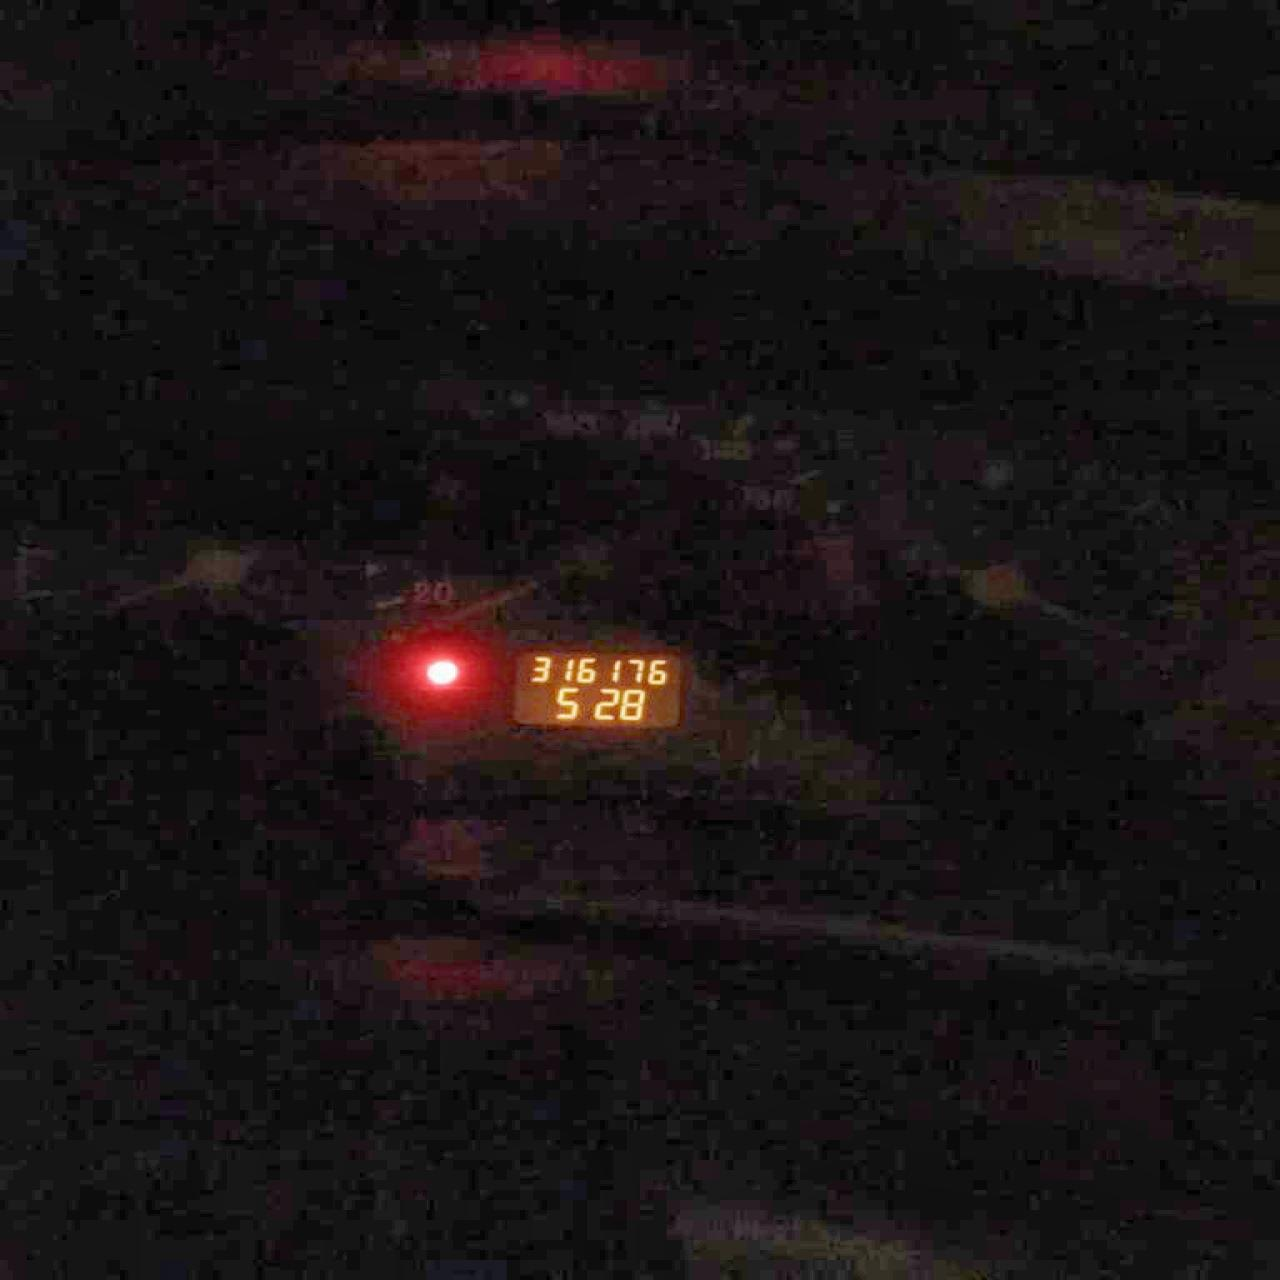1: (561, 658, 573, 681), (610, 659, 620, 681)
2: (592, 686, 618, 720)
3: (530, 655, 550, 681)
5: (553, 686, 579, 719)
6: (573, 656, 594, 682), (645, 658, 665, 683)
7: (625, 658, 644, 682)
8: (618, 688, 645, 720)
odometer: (509, 648, 683, 727)
